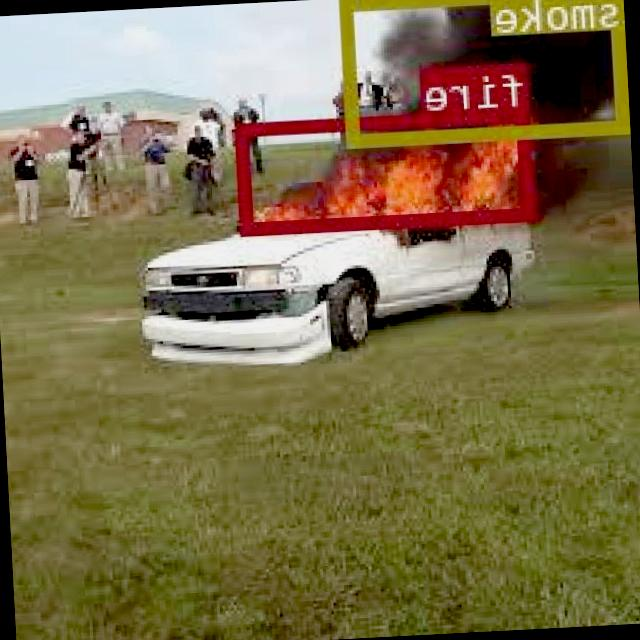fire: (238, 106, 536, 232)
smoke: (344, 0, 630, 146)
